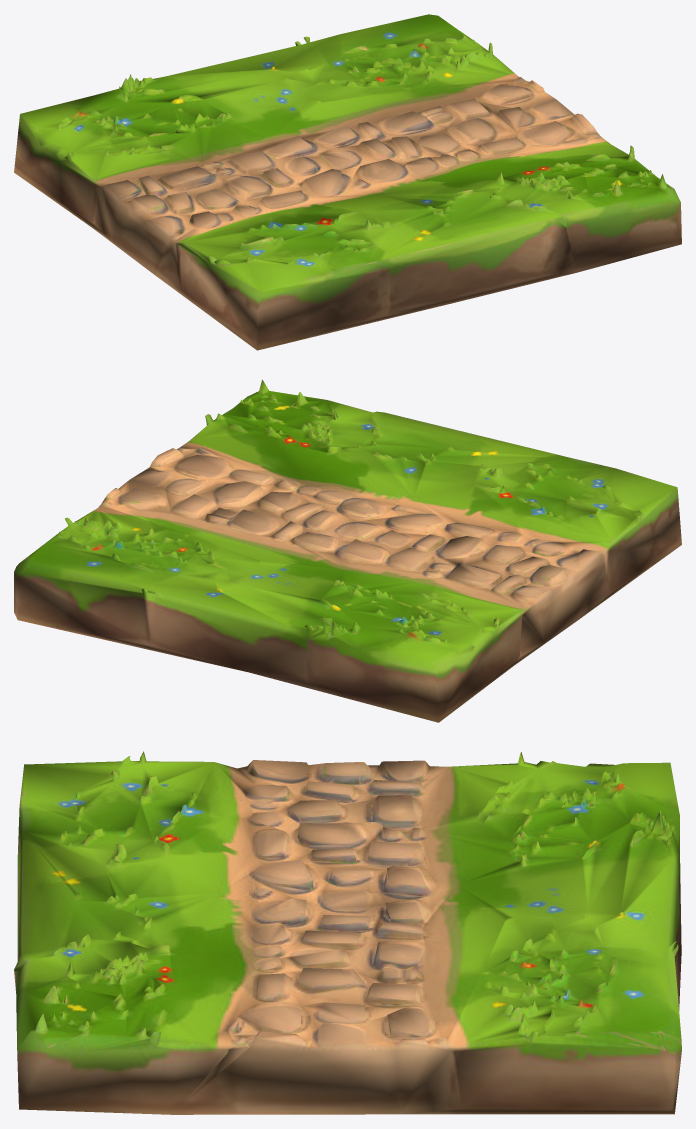
File: path-straight.glb
3 renders of one model, top to bottom at view 1: azimuth 30°, elevation 25°; view 2: azimuth 150°, elevation 25°; view 3: azimuth 270°, elevation 25°, orthographic. The views are drawn at different scales.
Parts seen in each view (by area): view 1: Mesh1.0; view 2: Mesh1.0; view 3: Mesh1.0.
Part boxes in pixels (bbox=[...]): Mesh1.0: bbox=[14, 14, 681, 350]; Mesh1.0: bbox=[14, 379, 681, 722]; Mesh1.0: bbox=[14, 751, 681, 1114].
Size of the model in its own units: 1.89 by 0.3159 by 1.89.
1 material, 1 textured.
